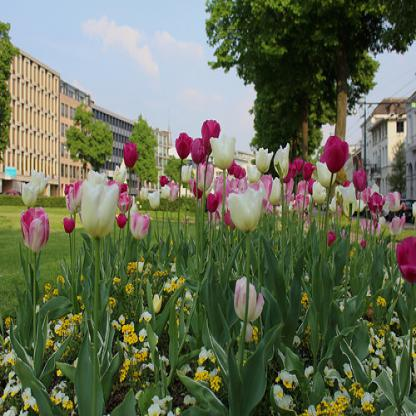TULIP: (15, 124, 416, 361)
